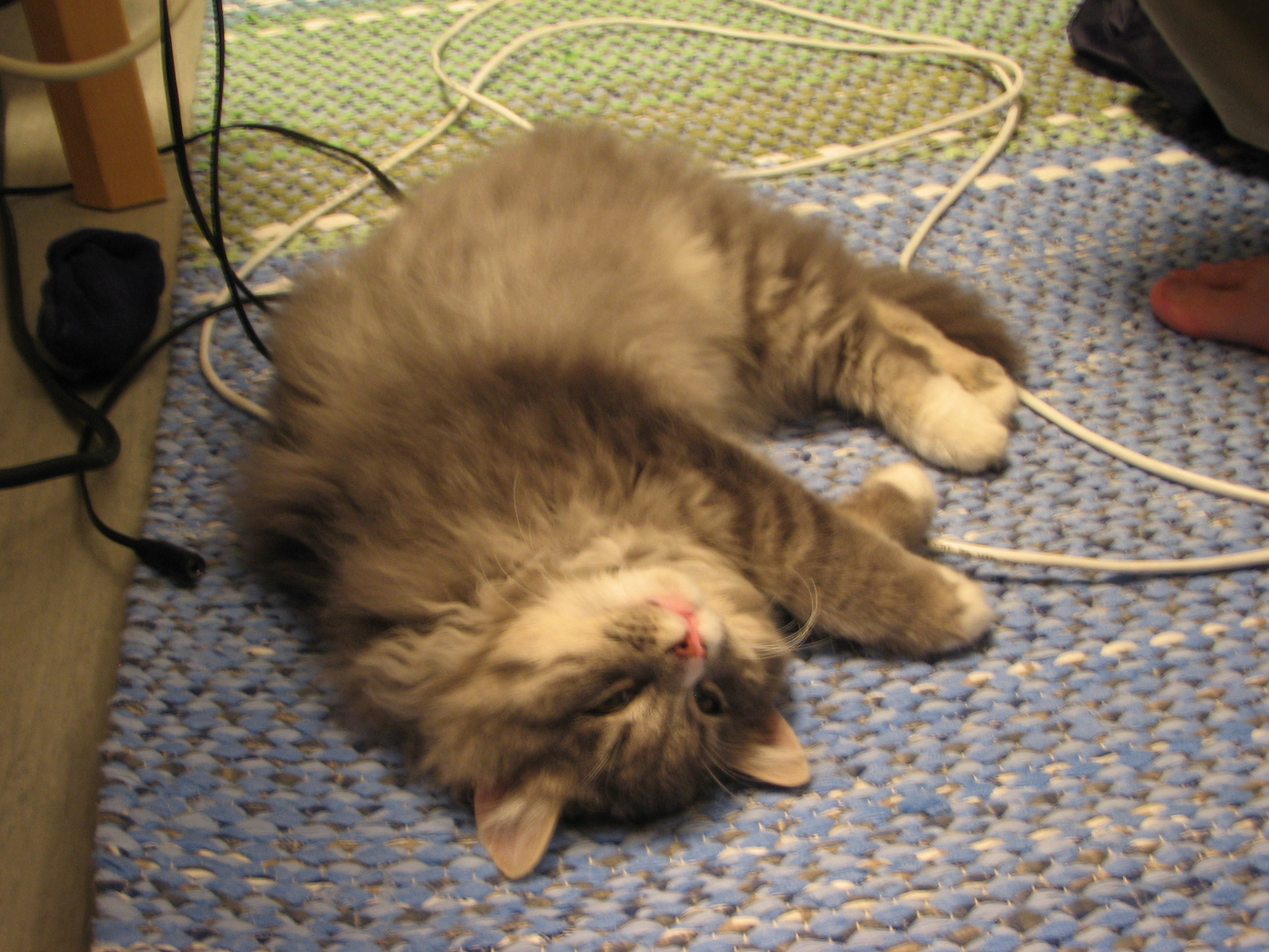cat: (213, 70, 1008, 884)
